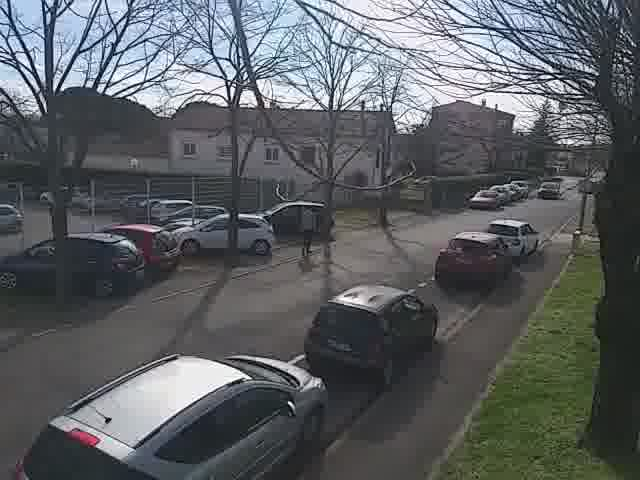persona: (295, 199, 321, 258)
